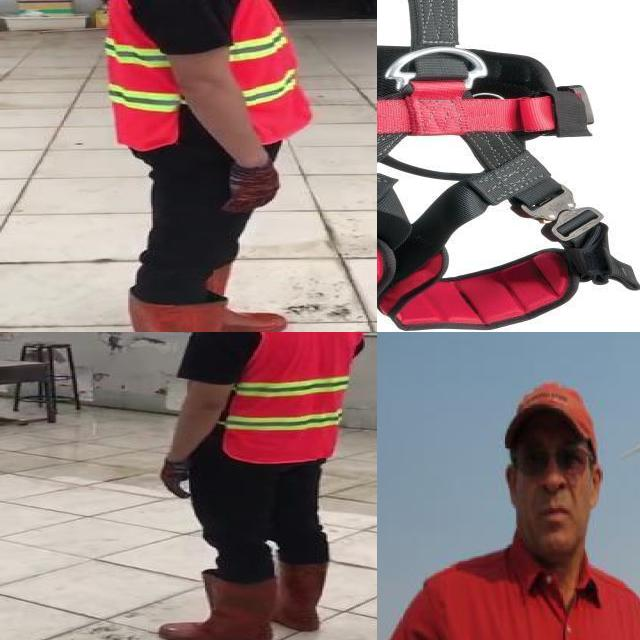Harness: (377, 0, 640, 330)
boots: (160, 575, 277, 640), (126, 290, 291, 332), (211, 264, 291, 332), (266, 563, 328, 631)
face_nomask: (508, 442, 601, 537)
glasses: (503, 430, 590, 476)
hand_glove: (220, 163, 281, 211), (158, 460, 192, 498)
head_helmet: (500, 378, 607, 448)
person: (83, 0, 332, 332), (139, 332, 375, 640), (377, 378, 640, 640)
vest: (106, 0, 309, 151), (219, 332, 359, 462)
